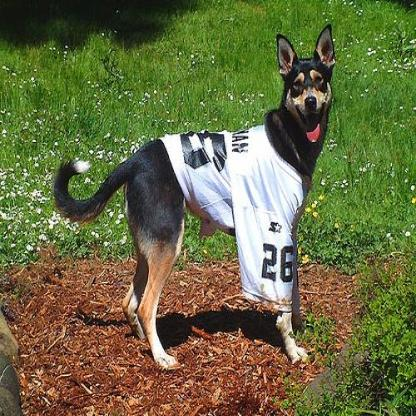kelpie: (51, 23, 334, 367)
